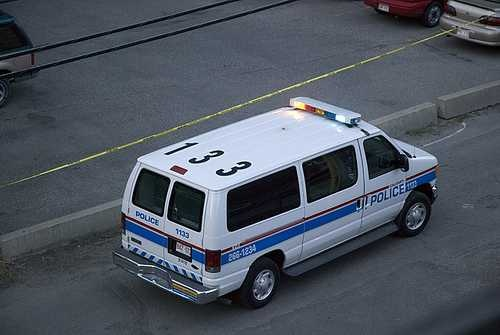Police Car: (98, 95, 465, 307)
